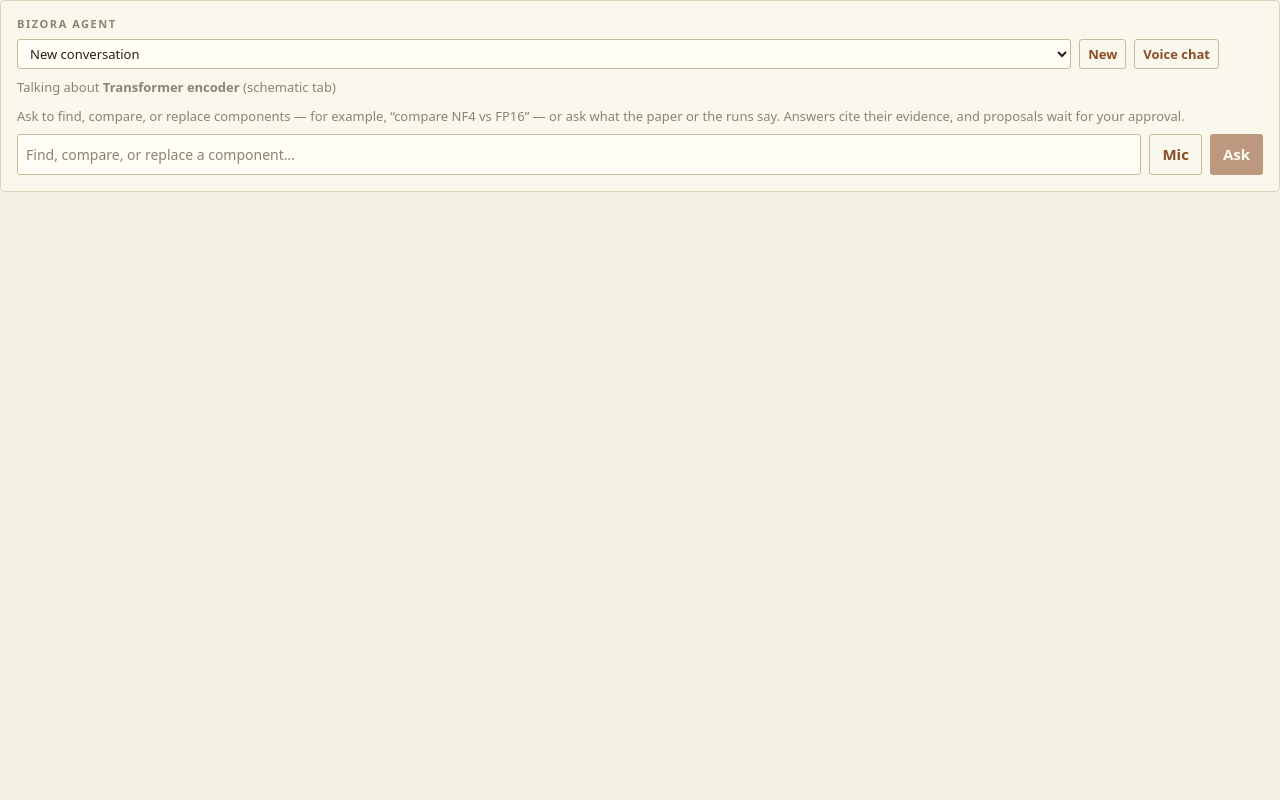
Scenario: CopilotPanel grounding › renders cited answers with badges and the approval gate
This screenshot has width=1280, height=800.
Step 1. Type "What does the paper say?" into the field named "Agent message" → x=579, y=154, box [17,134,1142,175]
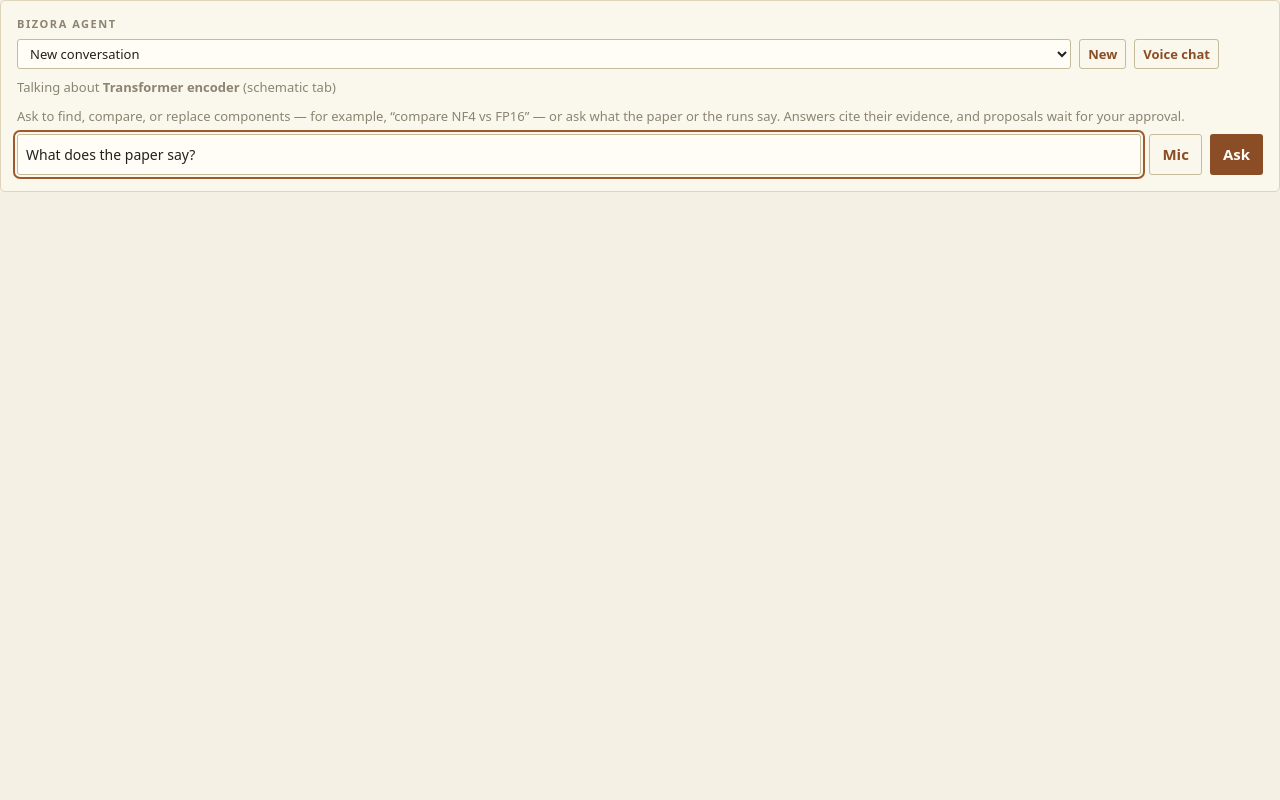
Step 2. Click the button "Ask" → x=1236, y=154, box [1210,134,1263,175]
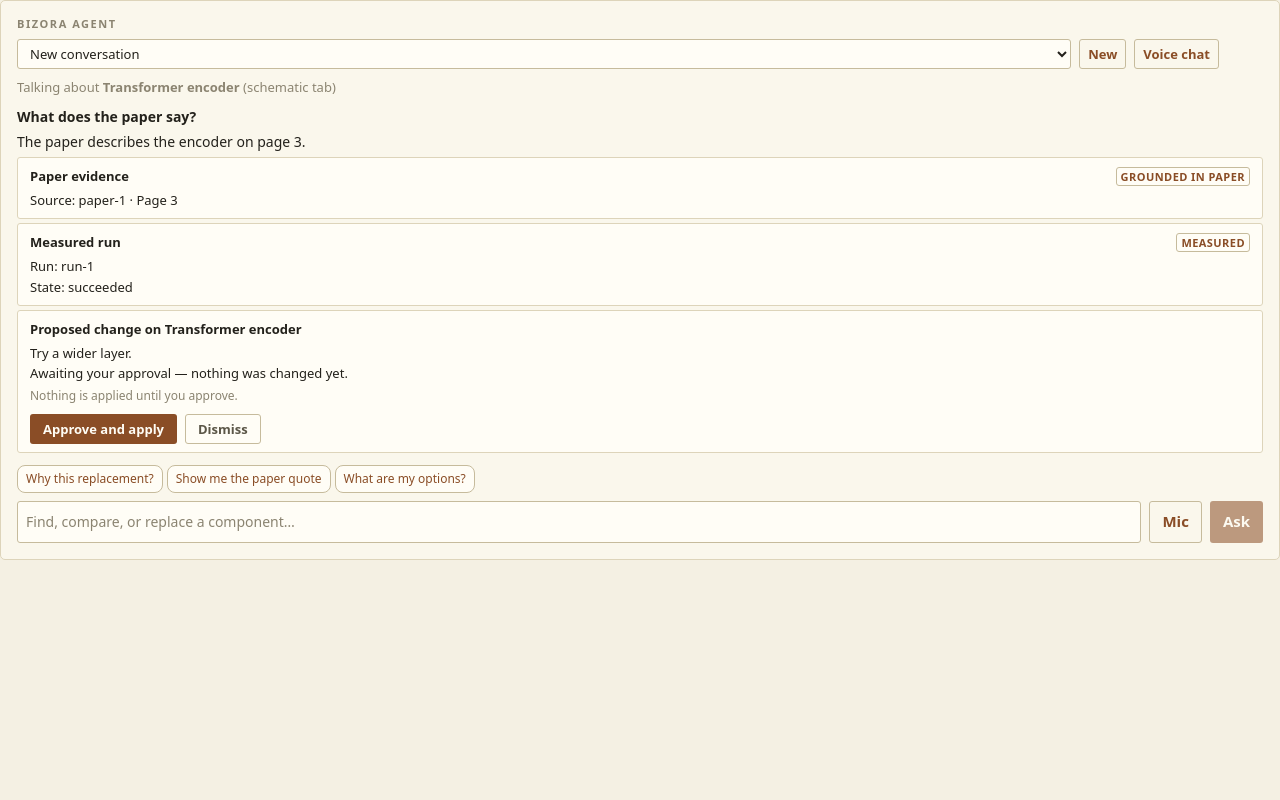
Expected: the text "Grounded in paper" is shown, [1116,166,1250,186]
Expected: the text "Measured" is shown, [1176,233,1250,252]
Expected: the text "Nothing is applied until you approve." is shown, [30,387,238,404]
